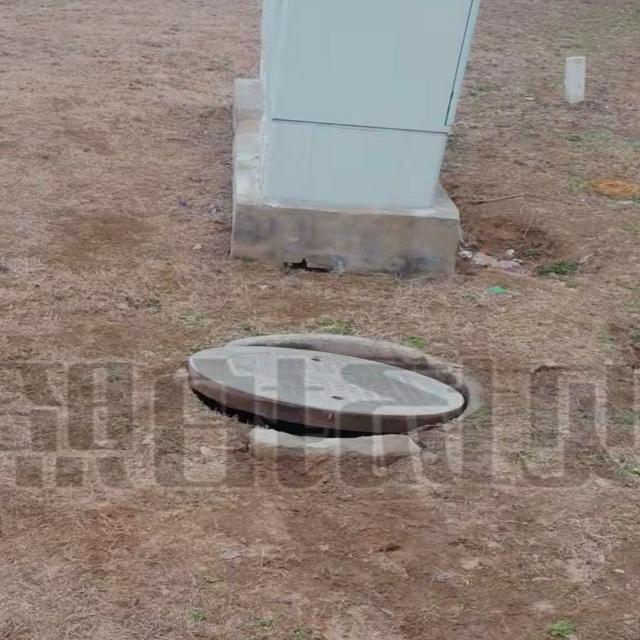uncovered: (181, 328, 477, 441)
